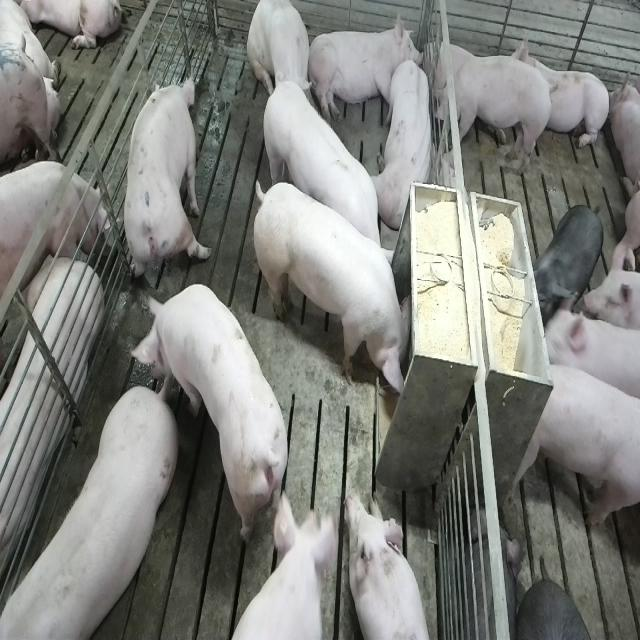Feeding: (255, 175, 420, 402)
Lateral_lying: (0, 241, 101, 608), (306, 13, 425, 127)
Sitting: (375, 57, 436, 228), (247, 1, 316, 114)
Standing: (0, 383, 176, 640), (124, 285, 285, 545), (258, 77, 388, 277), (506, 362, 638, 538), (122, 70, 208, 290), (428, 50, 555, 182), (0, 160, 108, 306), (540, 304, 636, 408)
Sternal_lying: (346, 488, 434, 640), (513, 30, 609, 153)
